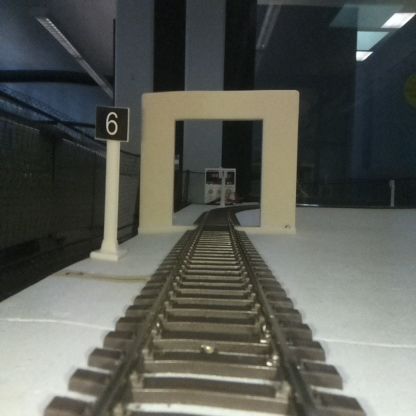black-info-6: (95, 107, 127, 257)
white-info-1: (219, 168, 227, 206)
